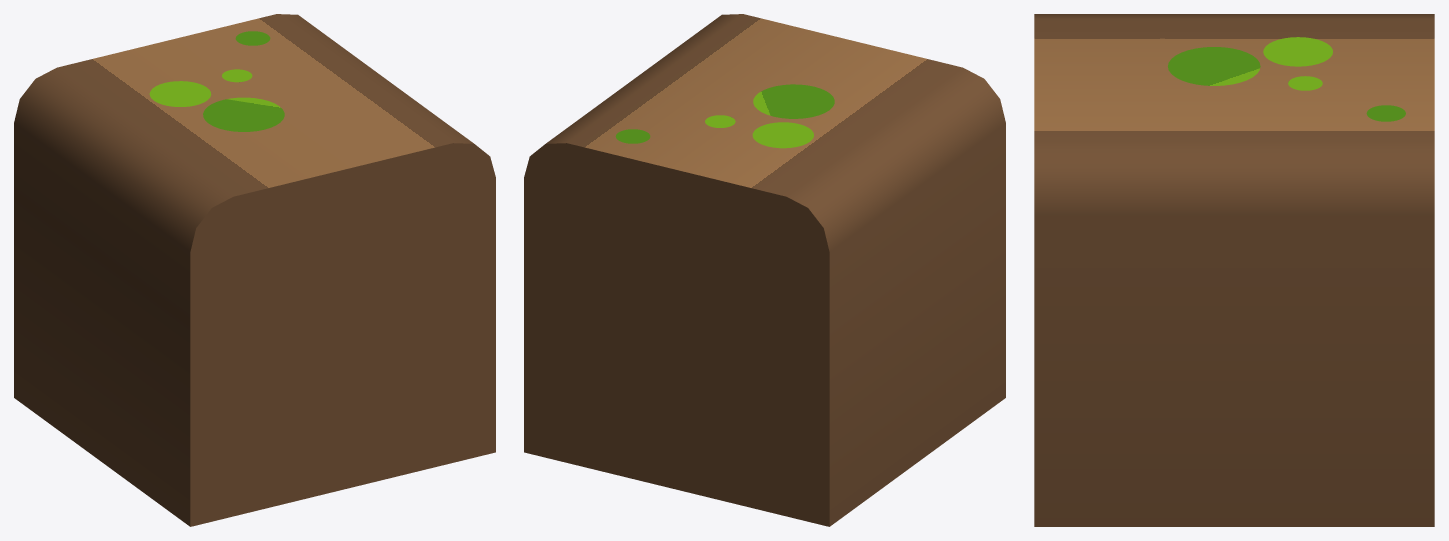
File: GROUND_with_lessleafs_.fbx
3 views of the same model, side by side, from view 1: azimuth 30°, elevation 25°; view 2: azimuth 150°, elevation 25°; view 3: azimuth 270°, elevation 25° (orthographic). The views are drawn at different scales.
Parts seen in each view (by area): view 1: Cube.027; view 2: Cube.027; view 3: Cube.027.
Part boxes in pixels (<box>): Cube.027: <box>14,14,495,526</box>; Cube.027: <box>524,14,1005,526</box>; Cube.027: <box>1034,14,1434,526</box>.
Size of the model in its own units: 100 by 101 by 100.
